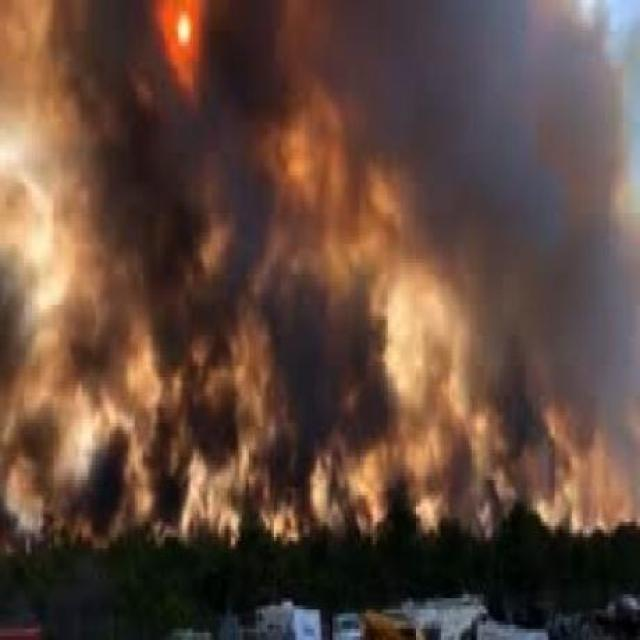Smoke: (0, 13, 640, 509)
